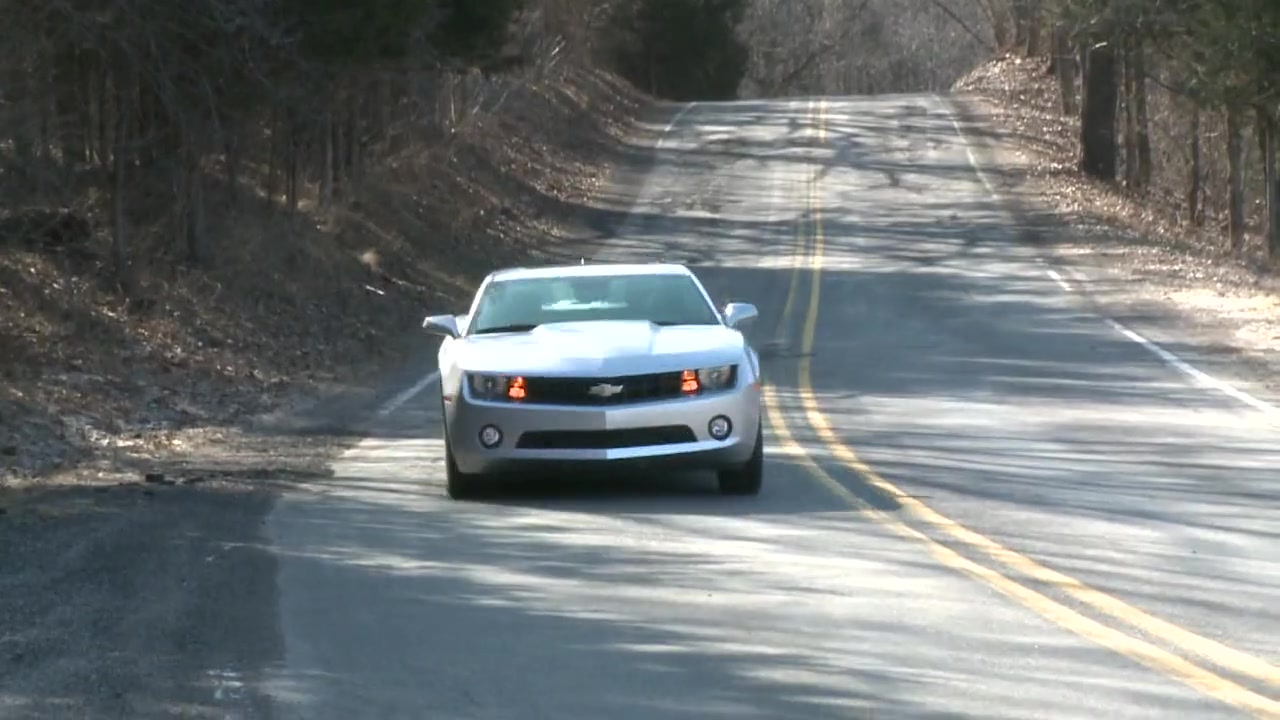car: (415, 262, 774, 501)
